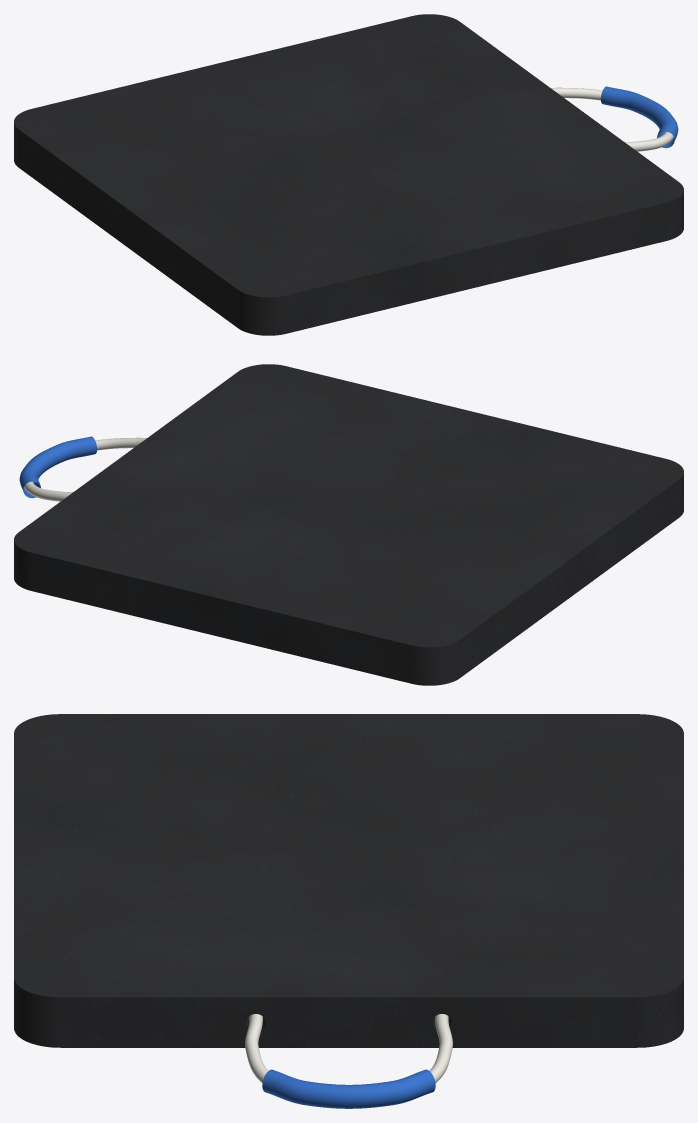
3 renders of one model, top to bottom at view 1: azimuth 30°, elevation 25°; view 2: azimuth 150°, elevation 25°; view 3: azimuth 270°, elevation 25°, orthographic. The views are drawn at different scales.
Visible parts, largest first — view 1: plate, sleeve, rope; view 2: plate, sleeve, rope; view 3: plate, sleeve, rope.
Boxes of the visible parts, x1,y1,x2,y2 form: plate: (14, 14, 683, 335); sleeve: (600, 86, 678, 148); rope: (551, 87, 673, 151); plate: (14, 364, 683, 685); sleeve: (19, 436, 97, 498); rope: (24, 437, 146, 501); plate: (14, 714, 683, 1047); sleeve: (262, 1069, 435, 1108); rope: (245, 1014, 452, 1083).
Size of the model in its own units: 0.5562 by 0.0409 by 0.4572.
3 materials, 1 textured.
